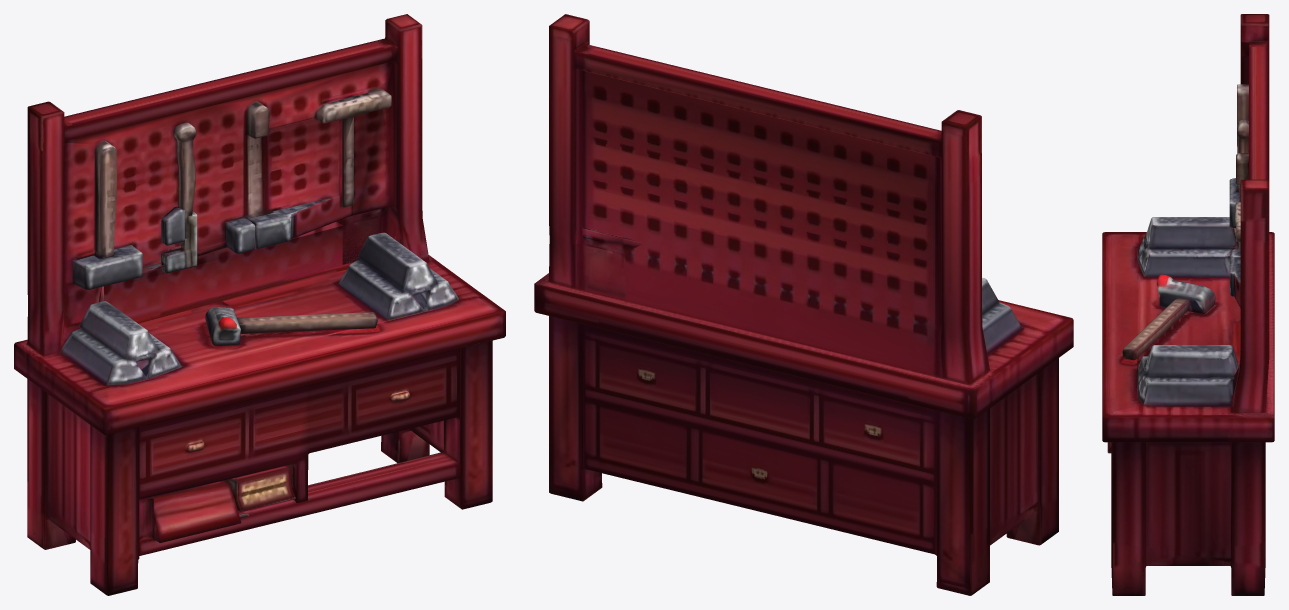
Rendered from Red_Woodworking_Workbench.glb.
3 views of the same model, side by side, from view 1: azimuth 30°, elevation 25°; view 2: azimuth 150°, elevation 25°; view 3: azimuth 270°, elevation 25° (orthographic). The views are drawn at different scales.
Size of the model in its own units: 1.87 by 1.9 by 0.732.
Materials: 1 (1 with a texture image).
